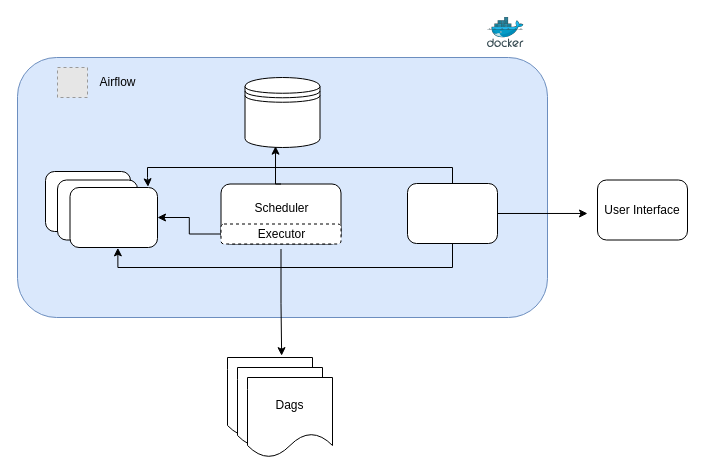
Some shapes in this 705 by 475 pixel diagram are drawn without their labels. Grey dashed boxes stand in for pictures. The centre of each missing label's shape, as x and y in pixels:
"Metadata database" goes at point (282, 112).
"WebServer" goes at point (452, 213).
"Worker" goes at point (113, 217).
